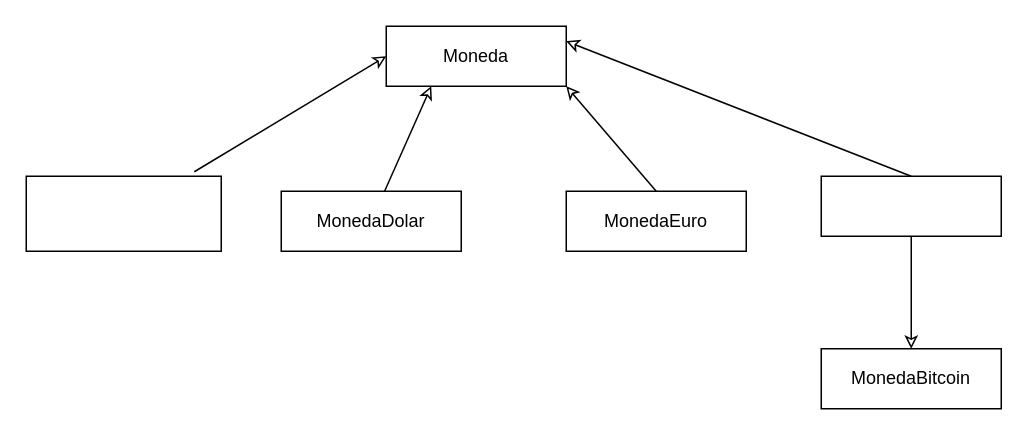
Image size: 1028x435. Some labels were removed from this diagram. The centre of each missing label's shape, as x and y in pixels:
"BitcoinAdapter" goes at point (910, 205).
"MonedaPeso" goes at point (123, 213).
